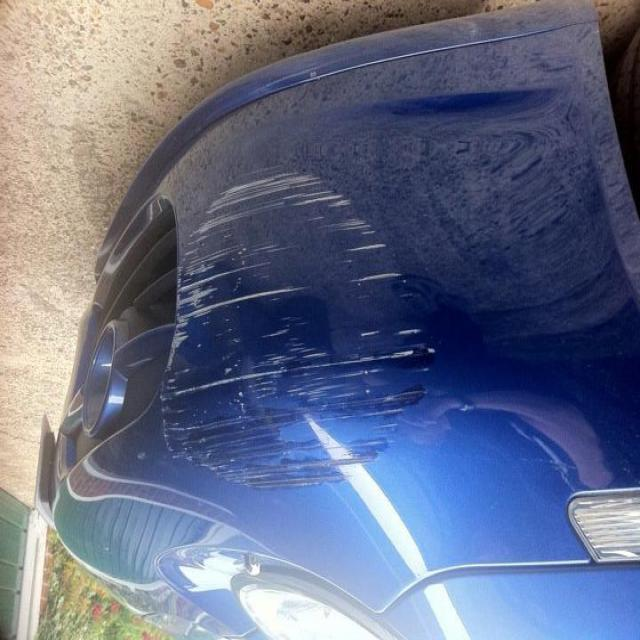scratch: (140, 145, 446, 500)
